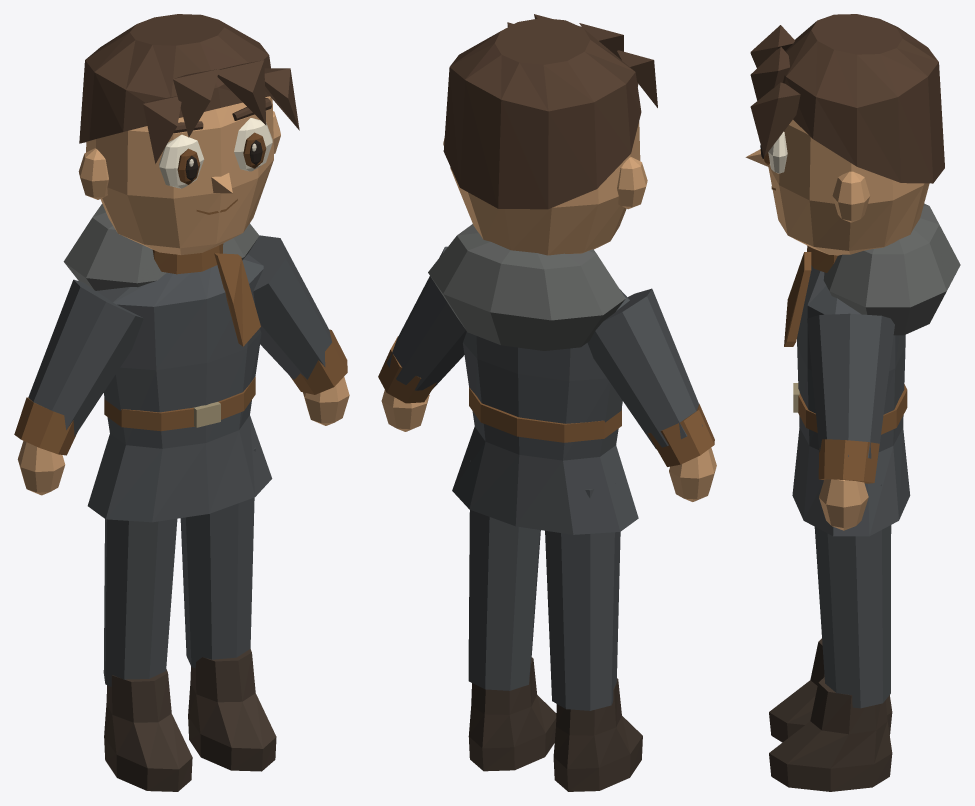
Rendered from SM_Character_Prototype.fbx.
3 renders of one model, left to right at view 1: azimuth 30°, elevation 25°; view 2: azimuth 150°, elevation 25°; view 3: azimuth 270°, elevation 25°, orthographic.
Visible parts, largest first — view 1: SM_Character_Prototype; view 2: SM_Character_Prototype; view 3: SM_Character_Prototype.
Part boxes in pixels (<box>): SM_Character_Prototype: <box>14,14,349,791</box>; SM_Character_Prototype: <box>378,14,716,791</box>; SM_Character_Prototype: <box>745,14,960,791</box>.
Bounding box in the file's own units: 80.2 × 170 × 45.7.
